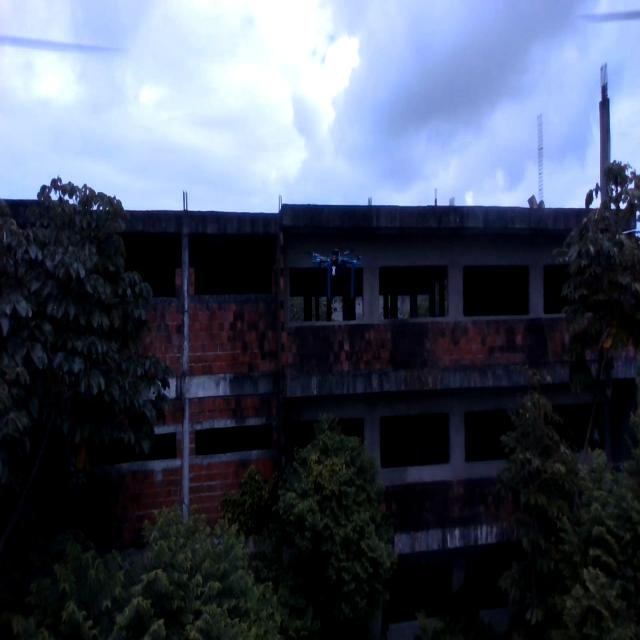-uav-: (306, 235, 372, 326)
